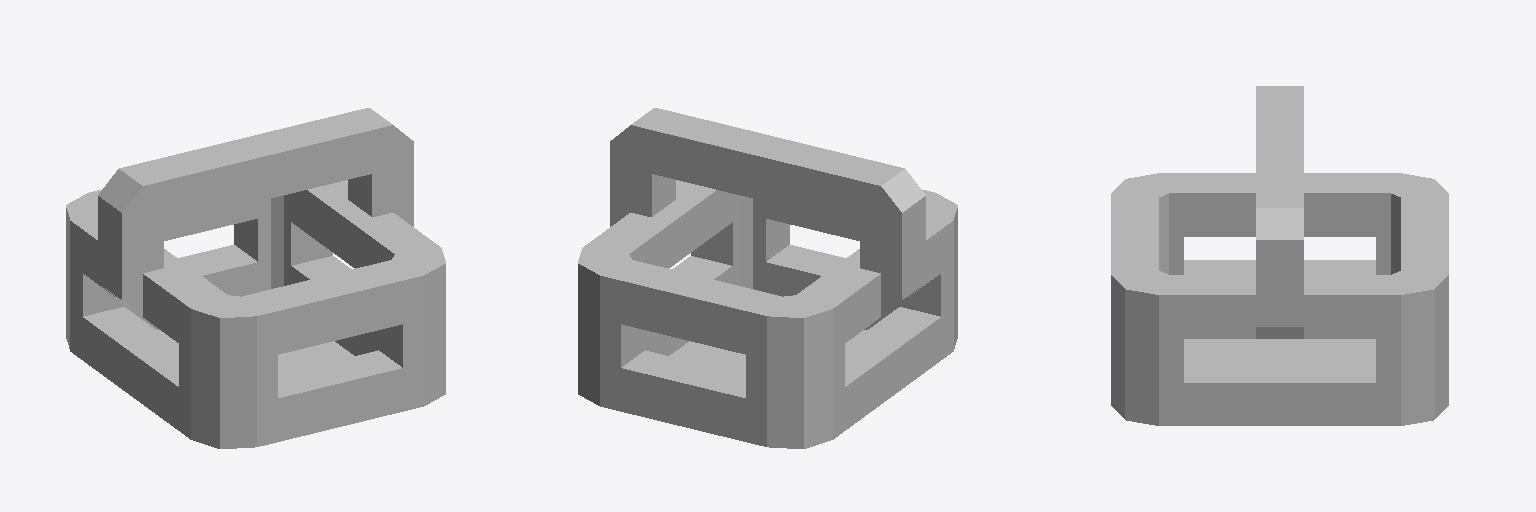
File: shopping-basket.obj
3 renders of one model, left to right at view 1: azimuth 30°, elevation 25°; view 2: azimuth 150°, elevation 25°; view 3: azimuth 270°, elevation 25°, orthographic.
Parts seen in each view (by area): view 1: shopping-basket; view 2: shopping-basket; view 3: shopping-basket.
Boxes of the visible parts, x1=… form: shopping-basket: x1=66, y1=108, x2=445, y2=448; shopping-basket: x1=578, y1=108, x2=957, y2=448; shopping-basket: x1=1111, y1=86, x2=1448, y2=425.
Size of the model in its own units: 0.35 by 0.25 by 0.35.